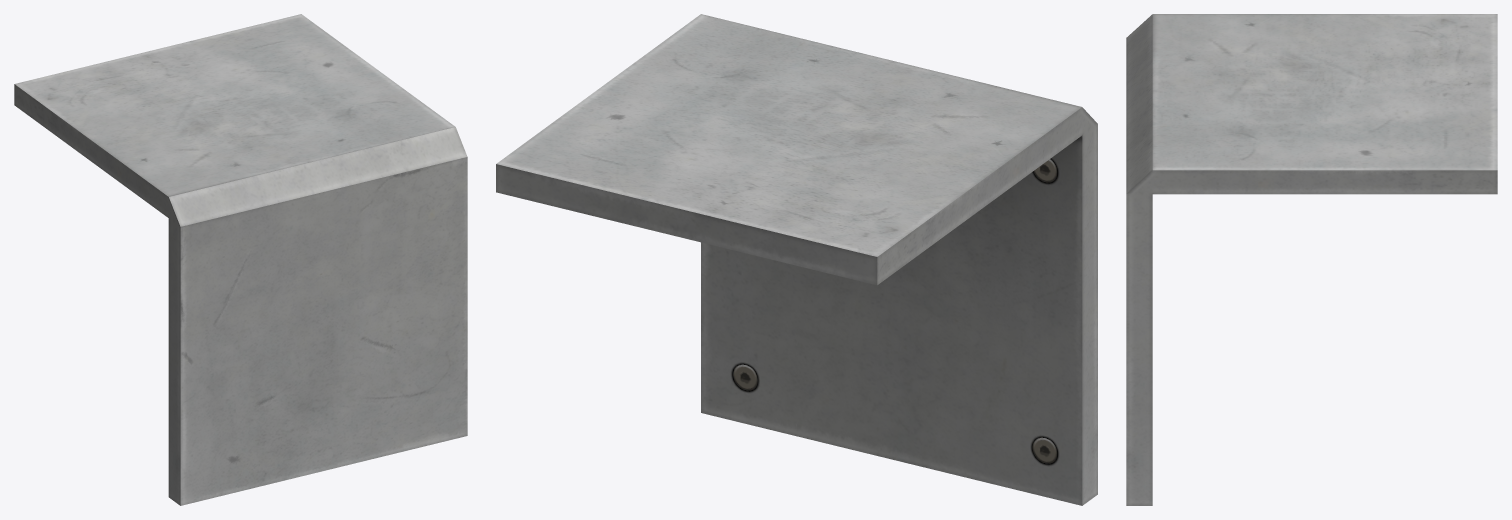
The model's file is MetalBracket.glb.
3 renders of one model, left to right at view 1: azimuth 30°, elevation 25°; view 2: azimuth 150°, elevation 25°; view 3: azimuth 270°, elevation 25°, orthographic. The views are drawn at different scales.
Parts seen in each view (by area): view 1: MetalBracket; view 2: MetalBracket; view 3: MetalBracket.
Boxes of the visible parts, x1,y1,x2,y2 form: MetalBracket: (14,14,467,505); MetalBracket: (496,14,1097,505); MetalBracket: (1126,14,1497,505).
Size of the model in its own units: 0.1245 by 0.1245 by 0.1248.
Materials: 1 (1 with a texture image).
